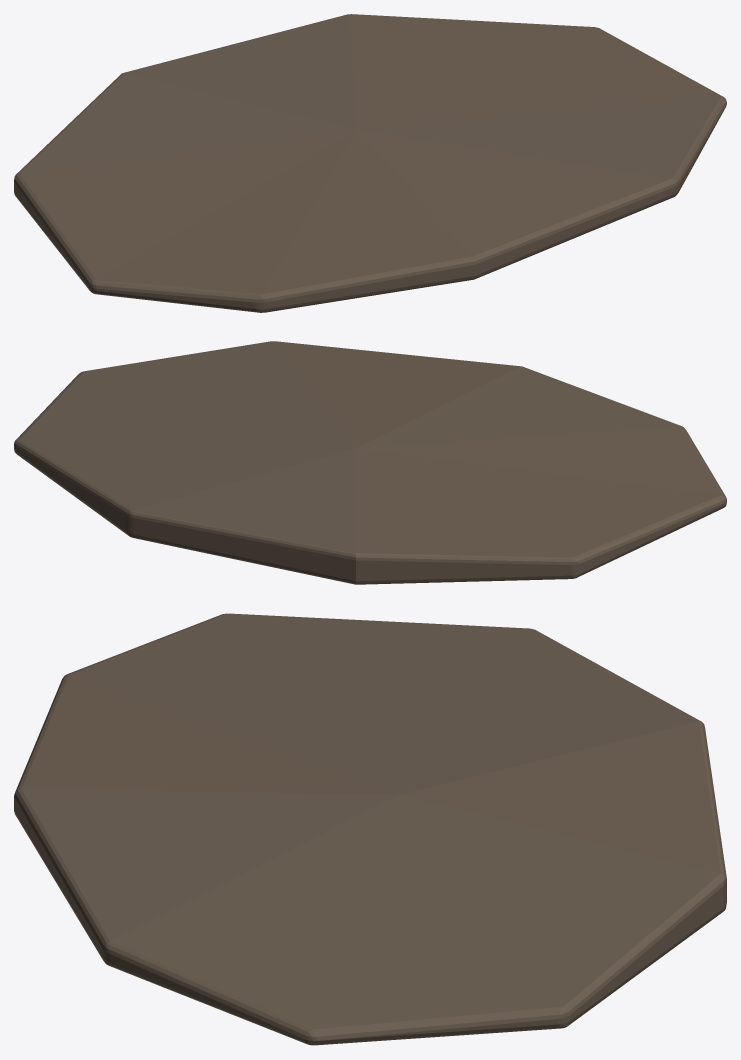
File: SM_MineRockPatch_Low_A.fbx
3 renders of one model, top to bottom at view 1: azimuth 30°, elevation 25°; view 2: azimuth 150°, elevation 25°; view 3: azimuth 270°, elevation 25°, orthographic. The views are drawn at different scales.
Visible parts, largest first — view 1: SM_MineRockPatch_Low_A.001; view 2: SM_MineRockPatch_Low_A.001; view 3: SM_MineRockPatch_Low_A.001.
Part boxes in pixels (box(x1,y1,x2,y2)): SM_MineRockPatch_Low_A.001: box(14, 14, 726, 312); SM_MineRockPatch_Low_A.001: box(14, 341, 726, 584); SM_MineRockPatch_Low_A.001: box(14, 613, 726, 1045).
Size of the model in its own units: 222 by 309 by 15.
